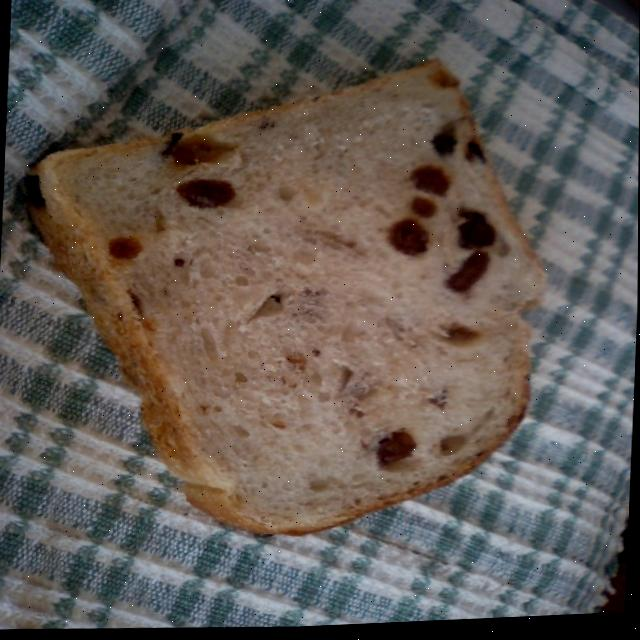面包点心: (15, 51, 573, 576)
